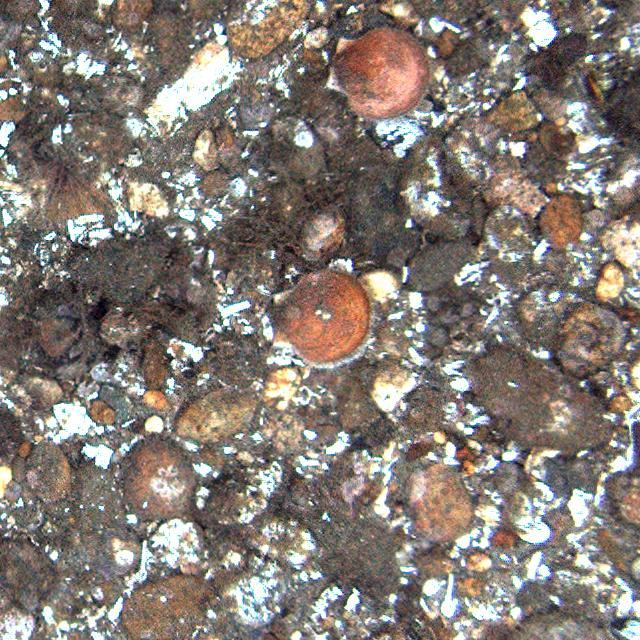scallop: (328, 19, 432, 119), (271, 265, 378, 362)
